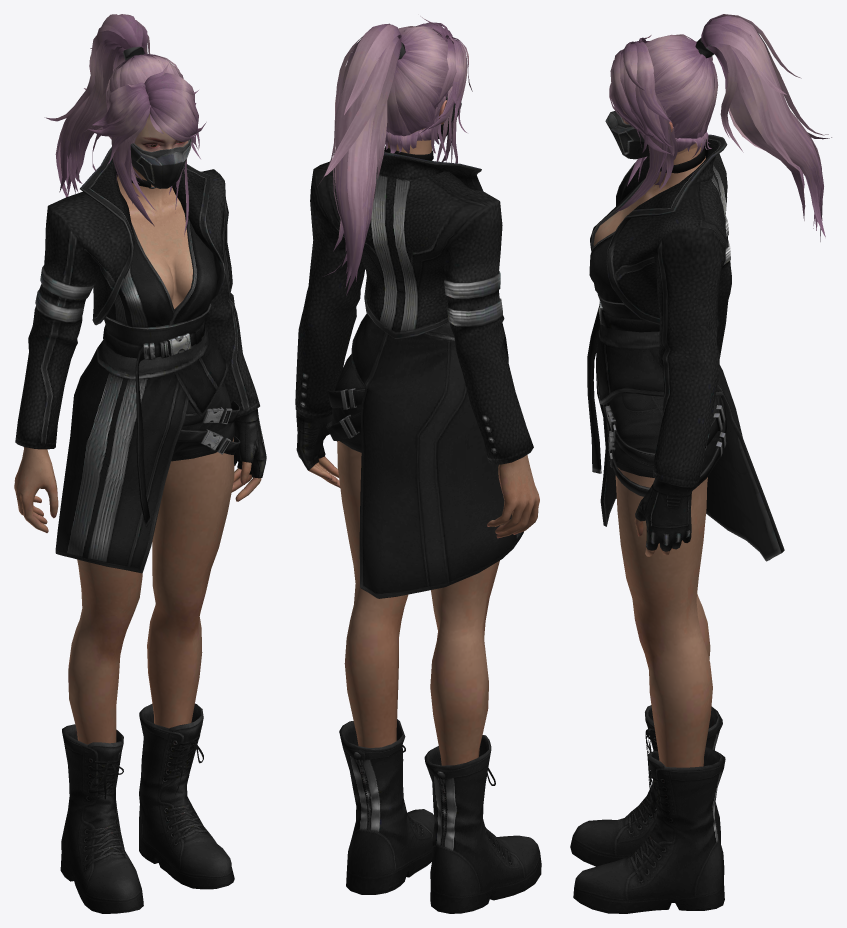
3 renders of one model, left to right at view 1: azimuth 30°, elevation 25°; view 2: azimuth 150°, elevation 25°; view 3: azimuth 270°, elevation 25°, orthographic. The views are drawn at different scales.
Visible parts, largest first — view 1: Mesh_0022.rip, Mesh_0014.rip, Mesh_0020.rip, Mesh_0031.rip, Mesh_0021.rip, Mesh_0018.rip; view 2: Mesh_0022.rip, Mesh_0014.rip, Mesh_0020.rip, Mesh_0031.rip, Mesh_0021.rip; view 3: Mesh_0022.rip, Mesh_0031.rip, Mesh_0020.rip, Mesh_0014.rip, Mesh_0021.rip, Mesh_0018.rip.
Part boxes in pixels (x1=…): Mesh_0022.rip: x1=15, y1=147, x2=266, y2=573; Mesh_0014.rip: x1=14, y1=113, x2=261, y2=744; Mesh_0020.rip: x1=60, y1=703, x2=234, y2=913; Mesh_0031.rip: x1=44, y1=14, x2=206, y2=236; Mesh_0021.rip: x1=171, y1=381, x2=240, y2=461; Mesh_0018.rip: x1=123, y1=46, x2=191, y2=188; Mesh_0022.rip: x1=295, y1=146, x2=533, y2=598; Mesh_0014.rip: x1=308, y1=100, x2=539, y2=765; Mesh_0020.rip: x1=339, y1=719, x2=541, y2=913; Mesh_0031.rip: x1=317, y1=16, x2=472, y2=295; Mesh_0021.rip: x1=326, y1=354, x2=364, y2=452; Mesh_0022.rip: x1=587, y1=134, x2=784, y2=561; Mesh_0031.rip: x1=609, y1=14, x2=831, y2=241; Mesh_0020.rip: x1=570, y1=705, x2=725, y2=913; Mesh_0014.rip: x1=593, y1=96, x2=712, y2=767; Mesh_0021.rip: x1=603, y1=393, x2=726, y2=496; Mesh_0018.rip: x1=605, y1=38, x2=713, y2=159.
Bounding box in the file's own units: 0.266 × 0.9077 × 0.2464.
6 materials, 6 textured.
